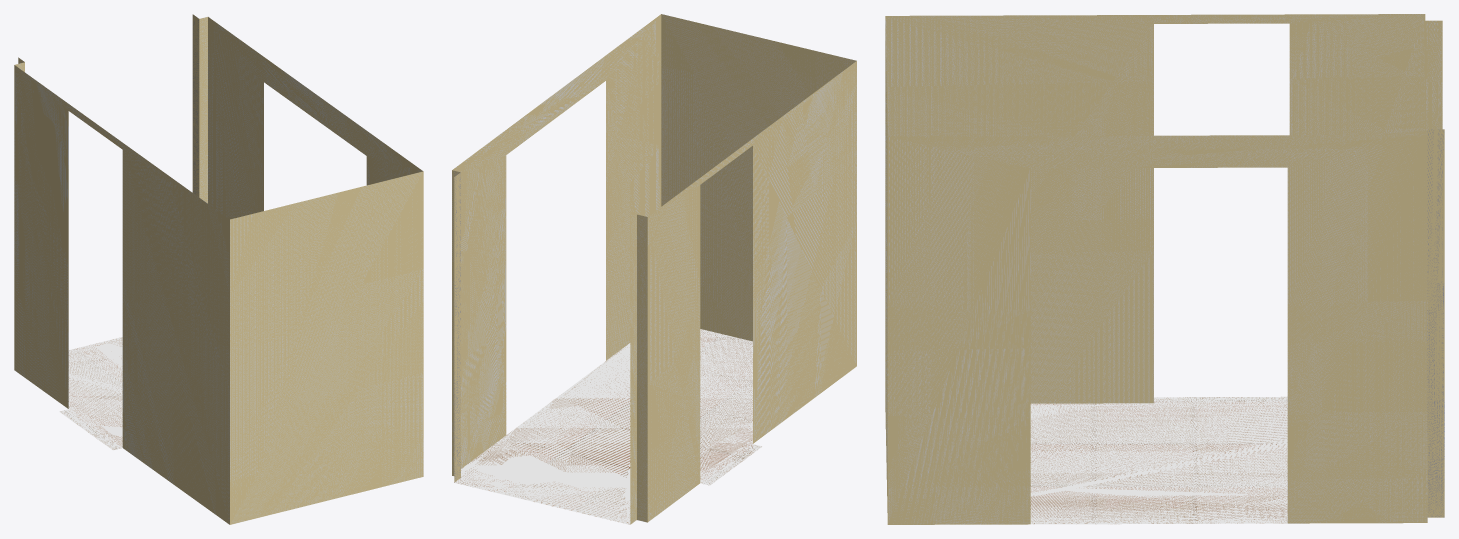
The model's file is COM031.obj.
The picture shows the model from 3 angles, left to right: view 1: azimuth 30°, elevation 25°; view 2: azimuth 150°, elevation 25°; view 3: azimuth 270°, elevation 25°; orthographic projection. The views are drawn at different scales.
Visible parts, largest first — view 1: Mesh1 Group1 Model; view 2: Mesh1 Group1 Model; view 3: Mesh1 Group1 Model.
Boxes of the visible parts, <box> form: Mesh1 Group1 Model: <box>14,14,423,524</box>; Mesh1 Group1 Model: <box>452,14,856,524</box>; Mesh1 Group1 Model: <box>885,14,1444,524</box>.
Bounding box in the file's own units: 2.12 × 3 × 3.92.
Materials: 4 (1 with a texture image).
